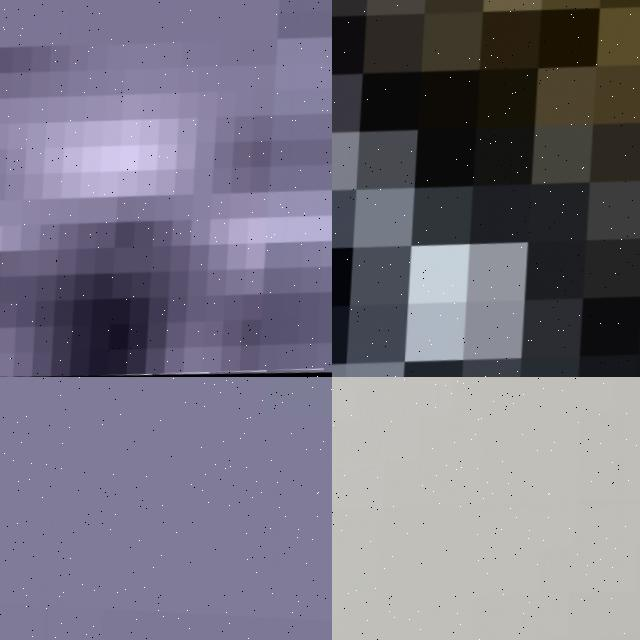drone: (0, 0, 332, 377), (332, 0, 640, 377), (332, 377, 640, 640)
